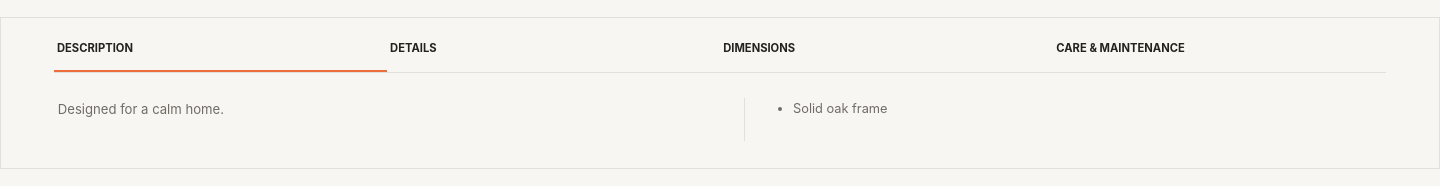
Test: shows the editable Care & Maintenance content for a product
Click the tab "Care & Maintenance": point(1121, 48) [1053, 18, 1386, 72]
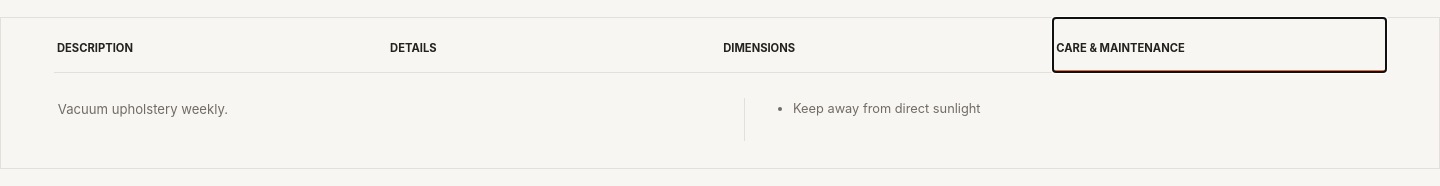
expect the text "Vacuum upholstery weekly." is shown: met, box [58, 101, 228, 117]
expect the list item "Keep away from direct sunlight" is shown: met, box [793, 101, 980, 116]
